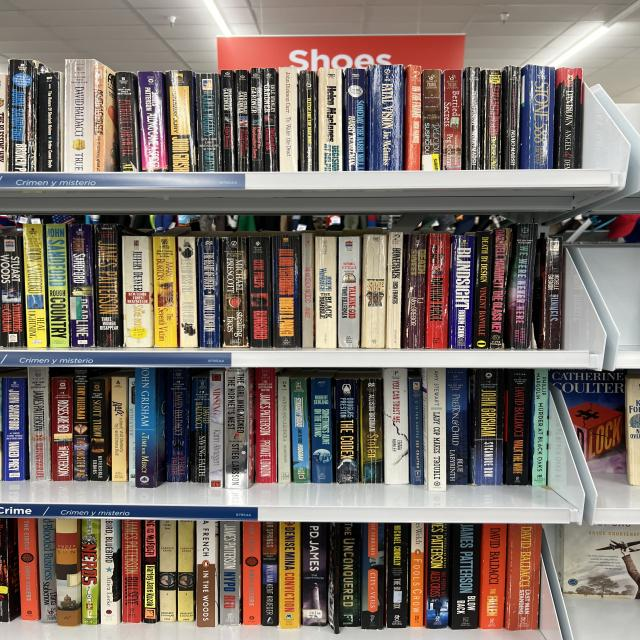book: (359, 170, 424, 349), (269, 371, 339, 483), (28, 367, 72, 480), (504, 222, 537, 349), (366, 64, 405, 171), (61, 58, 97, 173), (121, 235, 156, 348), (505, 523, 541, 631), (93, 223, 124, 348), (472, 369, 505, 486), (446, 523, 482, 630), (135, 368, 165, 487), (520, 65, 554, 169), (7, 59, 38, 172), (225, 368, 253, 488), (360, 234, 389, 348), (400, 233, 428, 349), (220, 236, 249, 347), (151, 236, 180, 347), (477, 523, 507, 630), (68, 224, 94, 347), (273, 234, 301, 348), (164, 368, 192, 482), (486, 228, 512, 349), (504, 369, 531, 485), (165, 71, 196, 172), (332, 523, 362, 627), (23, 224, 48, 348), (138, 71, 168, 173), (448, 235, 475, 348), (424, 524, 453, 629), (425, 233, 451, 349), (55, 519, 83, 626), (46, 224, 70, 348), (422, 369, 446, 491), (0, 236, 26, 348), (247, 237, 273, 348), (384, 369, 409, 484), (92, 63, 118, 171), (554, 68, 582, 168), (301, 523, 328, 626), (46, 377, 73, 480), (360, 523, 386, 629), (384, 523, 410, 628), (538, 237, 562, 349), (314, 236, 338, 348), (2, 377, 28, 480), (37, 72, 64, 171), (195, 74, 222, 172), (196, 238, 220, 347), (115, 73, 141, 173), (472, 231, 494, 349), (338, 236, 361, 348), (318, 68, 343, 171), (446, 369, 468, 484), (175, 237, 198, 347), (335, 378, 359, 483), (255, 368, 277, 482), (218, 521, 242, 625), (195, 520, 218, 627), (17, 518, 41, 620), (99, 519, 122, 625), (360, 377, 383, 483), (289, 378, 312, 484), (80, 519, 102, 625), (279, 523, 301, 628), (188, 374, 209, 482), (241, 522, 263, 625), (462, 67, 484, 170), (89, 377, 111, 480), (344, 69, 366, 170), (0, 518, 20, 623), (421, 70, 442, 170), (480, 70, 501, 169), (501, 66, 521, 169), (122, 520, 142, 622), (442, 70, 462, 170), (298, 71, 318, 171), (38, 518, 57, 623), (531, 369, 548, 486), (530, 237, 547, 348), (141, 520, 159, 623), (407, 375, 424, 484), (299, 233, 315, 348), (177, 520, 195, 622), (159, 520, 177, 622), (220, 70, 238, 171), (73, 369, 89, 481), (404, 65, 421, 170), (261, 522, 278, 626), (209, 370, 224, 487), (248, 68, 265, 171), (234, 70, 251, 171), (409, 523, 425, 627), (263, 68, 279, 171), (277, 376, 292, 482), (625, 373, 639, 486), (104, 69, 119, 171), (328, 524, 341, 633), (128, 376, 137, 485), (0, 74, 8, 172)
